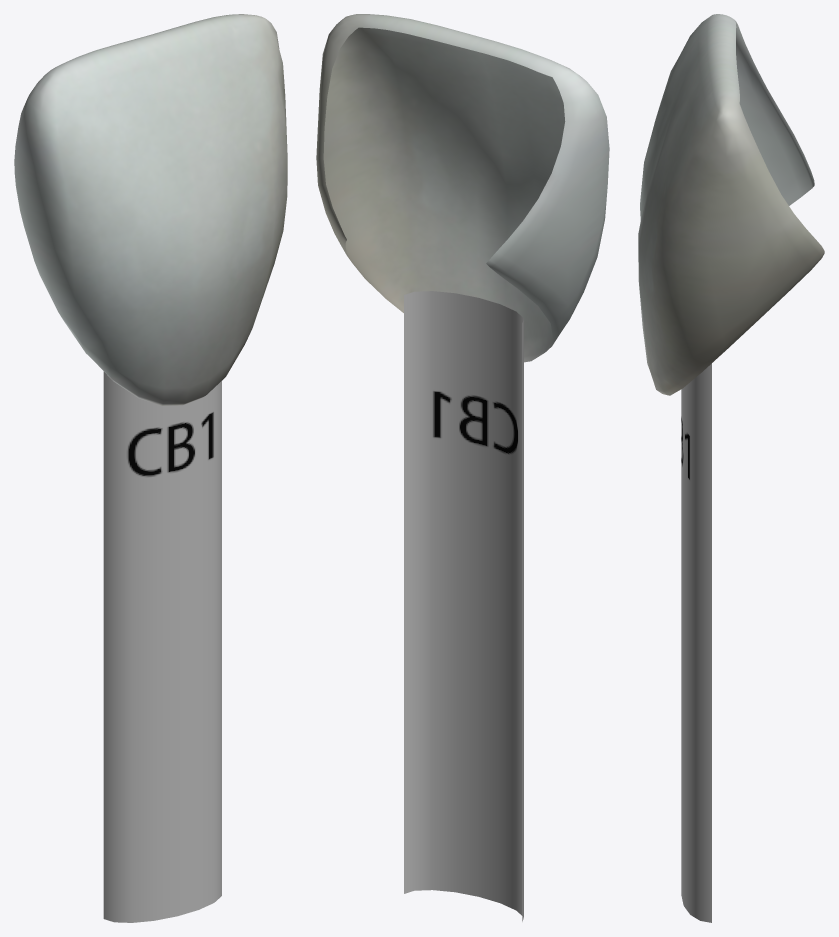
3 views of the same model, side by side, from view 1: azimuth 30°, elevation 25°; view 2: azimuth 150°, elevation 25°; view 3: azimuth 270°, elevation 25° (orthographic). The views are drawn at different scales.
Visible parts, largest first — view 1: Tab; view 2: Tab; view 3: Tab.
Part boxes in pixels (<box>): Tab: <box>14,14,287,922</box>; Tab: <box>316,14,609,921</box>; Tab: <box>638,14,824,922</box>.
Bounding box in the file's own units: 0.00859 × 0.0273 × 0.00547.
Materials: 1 (1 with a texture image).
